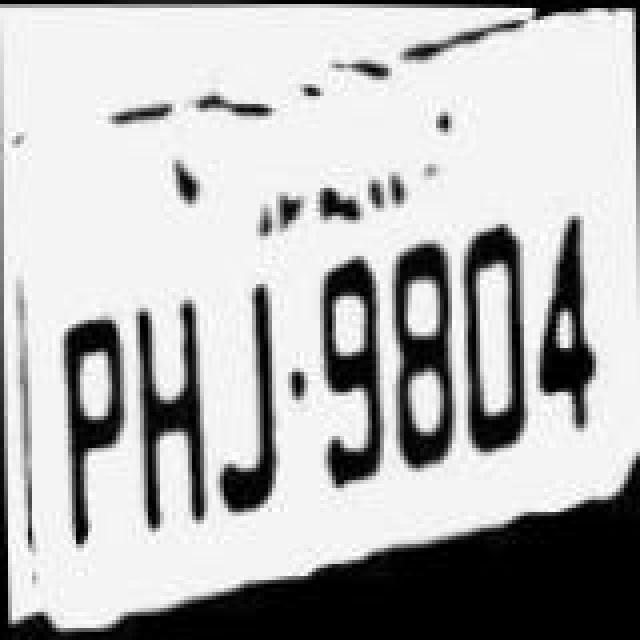4: (522, 210, 602, 474)
8: (384, 234, 460, 506)
9: (308, 240, 384, 520)
H: (132, 268, 212, 540)
J: (210, 264, 286, 528)
O: (452, 220, 528, 492)
P: (46, 280, 130, 548)
